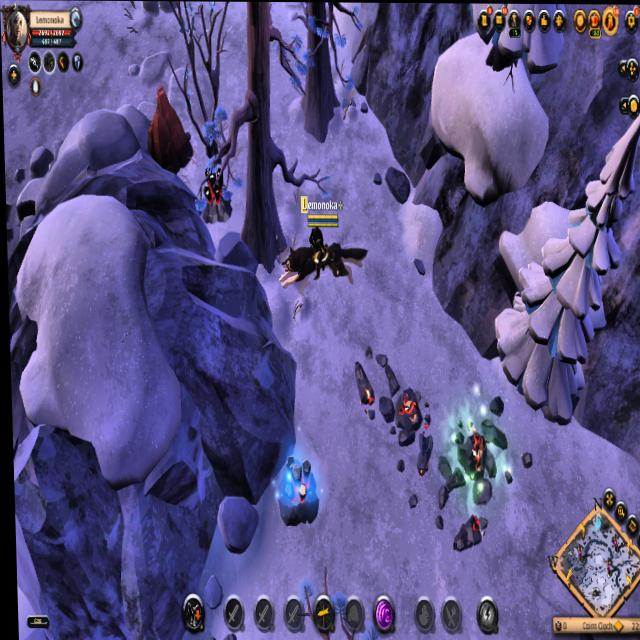ore tier 5: (271, 451, 318, 527)
